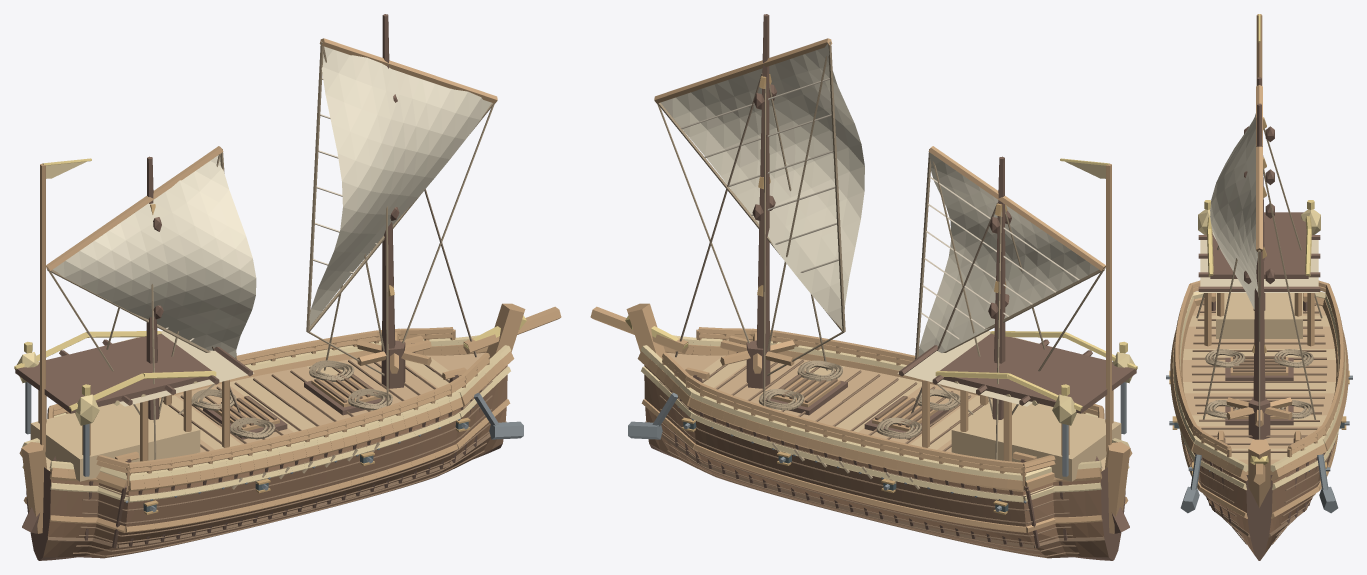
Rendered from zanzibar_jahazi-v5-mobile.glb.
3 views of the same model, side by side, from view 1: azimuth 30°, elevation 25°; view 2: azimuth 150°, elevation 25°; view 3: azimuth 270°, elevation 25° (orthographic). The views are drawn at different scales.
Parts seen in each view (by area): view 1: zanzibar_jahazi_sails_sail, zanzibar_jahazi_hull_wood, zanzibar_jahazi_hull_hull, zanzibar_jahazi_hull_seam, zanzibar_jahazi_hull_pale, zanzibar_jahazi_railings_wood, zanzibar_jahazi_deck_darkwood, zanzibar_jahazi_deck_decklight, zanzibar_jahazi_hull_hull2, zanzibar_jahazi_hull_deck, zanzibar_jahazi_rigging_rope, zanzibar_jahazi_masts_darkwood (+15 smaller); view 2: zanzibar_jahazi_sails_sail, zanzibar_jahazi_hull_wood, zanzibar_jahazi_hull_hull, zanzibar_jahazi_hull_seam, zanzibar_jahazi_hull_pale, zanzibar_jahazi_railings_wood, zanzibar_jahazi_deck_darkwood, zanzibar_jahazi_deck_decklight, zanzibar_jahazi_rigging_rope, zanzibar_jahazi_hull_hull2, zanzibar_jahazi_masts_darkwood, zanzibar_jahazi_hull_deck (+17 smaller); view 3: zanzibar_jahazi_hull_deck, zanzibar_jahazi_sails_sail, zanzibar_jahazi_hull_wood, zanzibar_jahazi_hull_seam, zanzibar_jahazi_hull_decklight, zanzibar_jahazi_railings_wood, zanzibar_jahazi_deck_darkwood, zanzibar_jahazi_deck_decklight, zanzibar_jahazi_hull_pale, zanzibar_jahazi_hull_hull, zanzibar_jahazi_masts_darkwood, zanzibar_jahazi_hull_darkwood (+18 smaller).
Boxes of the visible parts, x1,y1,x2,y2 form: zanzibar_jahazi_sails_sail: (53, 46, 491, 357); zanzibar_jahazi_hull_wood: (19, 303, 561, 533); zanzibar_jahazi_hull_hull: (43, 375, 507, 558); zanzibar_jahazi_hull_seam: (47, 360, 506, 556); zanzibar_jahazi_hull_pale: (22, 335, 511, 502); zanzibar_jahazi_railings_wood: (47, 327, 489, 486); zanzibar_jahazi_deck_darkwood: (15, 333, 211, 413); zanzibar_jahazi_deck_decklight: (30, 400, 200, 481); zanzibar_jahazi_hull_hull2: (47, 352, 507, 545); zanzibar_jahazi_hull_deck: (175, 353, 484, 453); zanzibar_jahazi_rigging_rope: (47, 41, 494, 414); zanzibar_jahazi_masts_darkwood: (146, 14, 399, 419); zanzibar_jahazi_sails_sail: (660, 43, 1098, 356); zanzibar_jahazi_hull_wood: (590, 303, 1132, 533); zanzibar_jahazi_hull_hull: (644, 375, 1108, 558); zanzibar_jahazi_hull_seam: (645, 360, 1104, 556); zanzibar_jahazi_hull_pale: (640, 335, 1129, 502); zanzibar_jahazi_railings_wood: (662, 327, 1104, 486); zanzibar_jahazi_deck_darkwood: (940, 333, 1136, 413); zanzibar_jahazi_deck_decklight: (951, 400, 1121, 481); zanzibar_jahazi_rigging_rope: (657, 41, 1104, 414); zanzibar_jahazi_hull_hull2: (644, 352, 1104, 545); zanzibar_jahazi_masts_darkwood: (752, 14, 1011, 419); zanzibar_jahazi_hull_deck: (667, 353, 976, 453); zanzibar_jahazi_hull_deck: (1182, 305, 1336, 464); zanzibar_jahazi_sails_sail: (1210, 113, 1257, 309); zanzibar_jahazi_hull_wood: (1170, 297, 1348, 518); zanzibar_jahazi_hull_seam: (1183, 303, 1335, 544); zanzibar_jahazi_hull_decklight: (1183, 315, 1335, 459); zanzibar_jahazi_railings_wood: (1174, 280, 1344, 457); zanzibar_jahazi_deck_darkwood: (1210, 212, 1308, 278); zanzibar_jahazi_deck_decklight: (1216, 293, 1302, 338); zanzibar_jahazi_hull_pale: (1173, 291, 1345, 490); zanzibar_jahazi_hull_hull: (1187, 450, 1331, 554); zanzibar_jahazi_masts_darkwood: (1244, 77, 1274, 401); zanzibar_jahazi_hull_darkwood: (1194, 453, 1324, 560).
Size of the model in its own units: 58.04 by 48.47 by 19.78.
